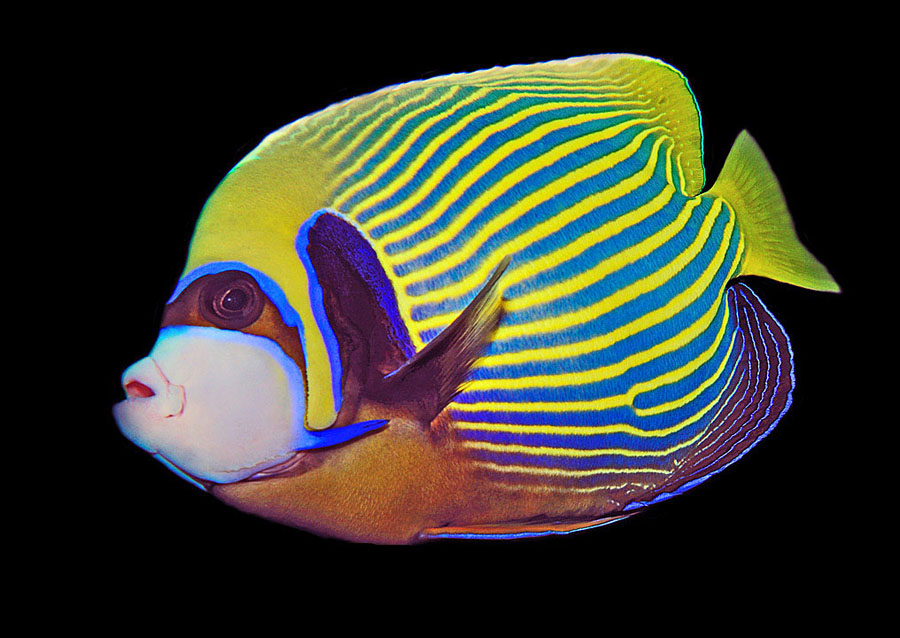Pomacanthus_imperator: (75, 23, 862, 585)
